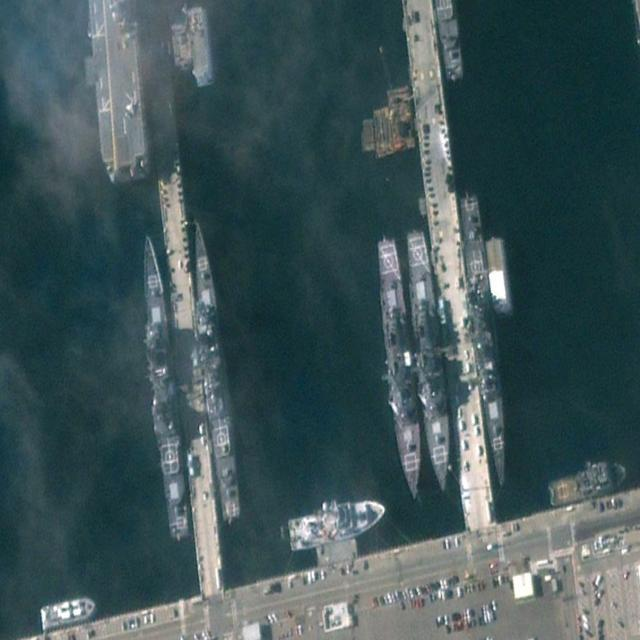Cruiser: (183, 216, 245, 522), (132, 230, 193, 541), (457, 190, 512, 491)
Destroyer: (372, 234, 429, 503), (405, 226, 455, 495)
Other Ship: (39, 594, 97, 634)
Other Warship: (286, 488, 387, 554), (546, 452, 628, 509)
